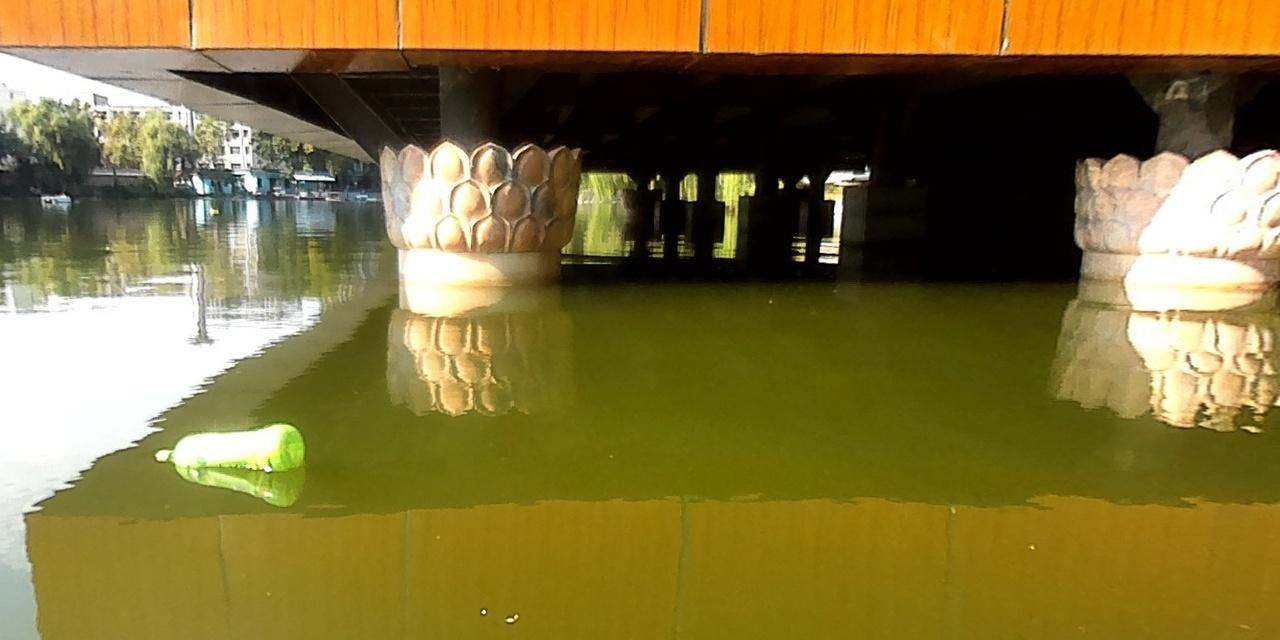bottle: (148, 422, 303, 472)
